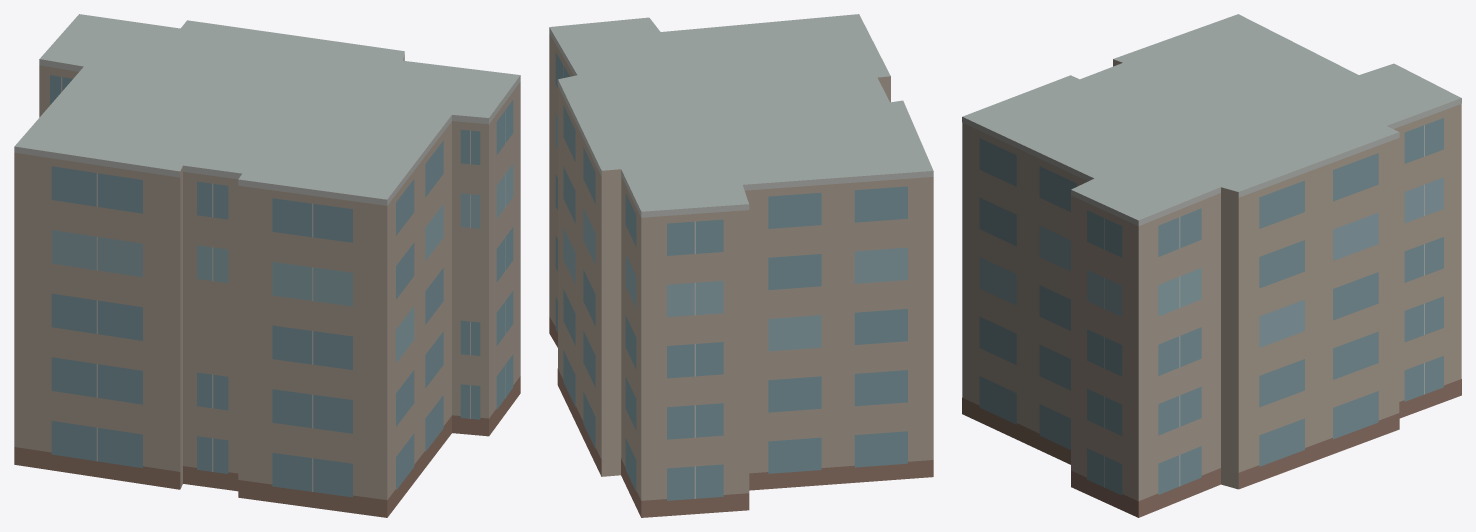
The model's file is survey-upis-32772408.glb.
The picture shows the model from 3 angles, left to right: view 1: azimuth 30°, elevation 25°; view 2: azimuth 150°, elevation 25°; view 3: azimuth 270°, elevation 25°; orthographic projection. The views are drawn at different scales.
Visible parts, largest first — view 1: survey-upis-32772408.tmp; view 2: survey-upis-32772408.tmp; view 3: survey-upis-32772408.tmp.
Boxes of the visible parts, x1,y1,x2,y2 form: survey-upis-32772408.tmp: (14, 14, 520, 517); survey-upis-32772408.tmp: (549, 14, 933, 517); survey-upis-32772408.tmp: (962, 14, 1461, 517).
Size of the model in its own units: 18.77 by 12.6 by 19.19.
